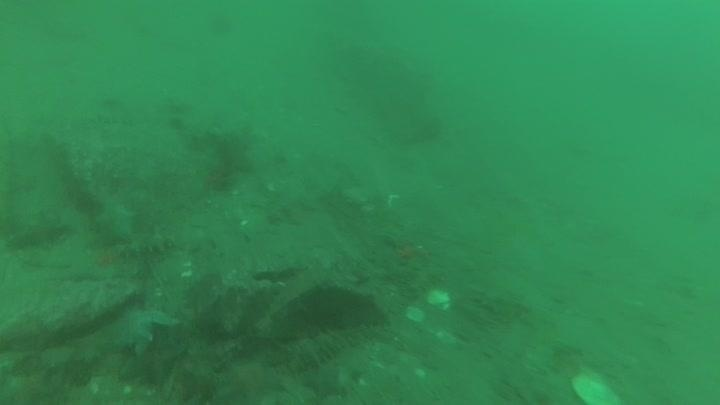holothurian: (280, 319, 383, 374), (468, 286, 532, 321), (114, 227, 177, 259)
scallop: (569, 366, 622, 405)
starfish: (209, 350, 288, 405), (119, 330, 187, 389), (109, 304, 179, 355), (89, 197, 140, 247), (299, 360, 351, 401)
